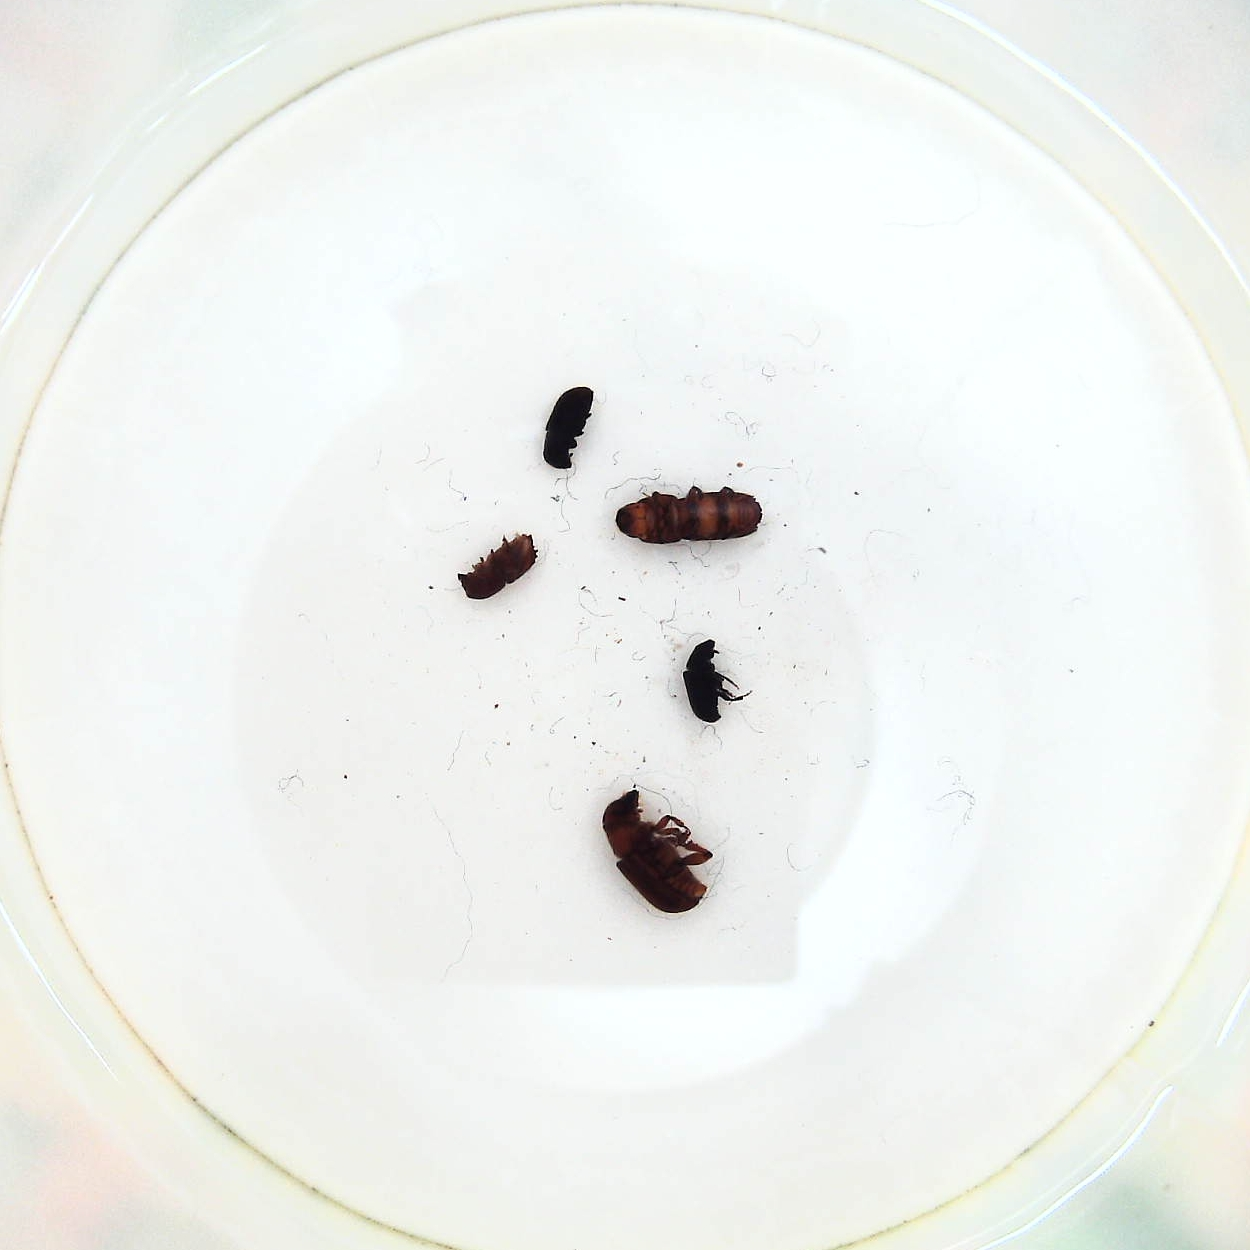Boerner: (614, 481, 766, 554)
Leconte: (598, 789, 710, 920)
armandi: (539, 381, 598, 474)
coleoptera: (683, 636, 744, 728)
linnaeus: (454, 528, 544, 606)
